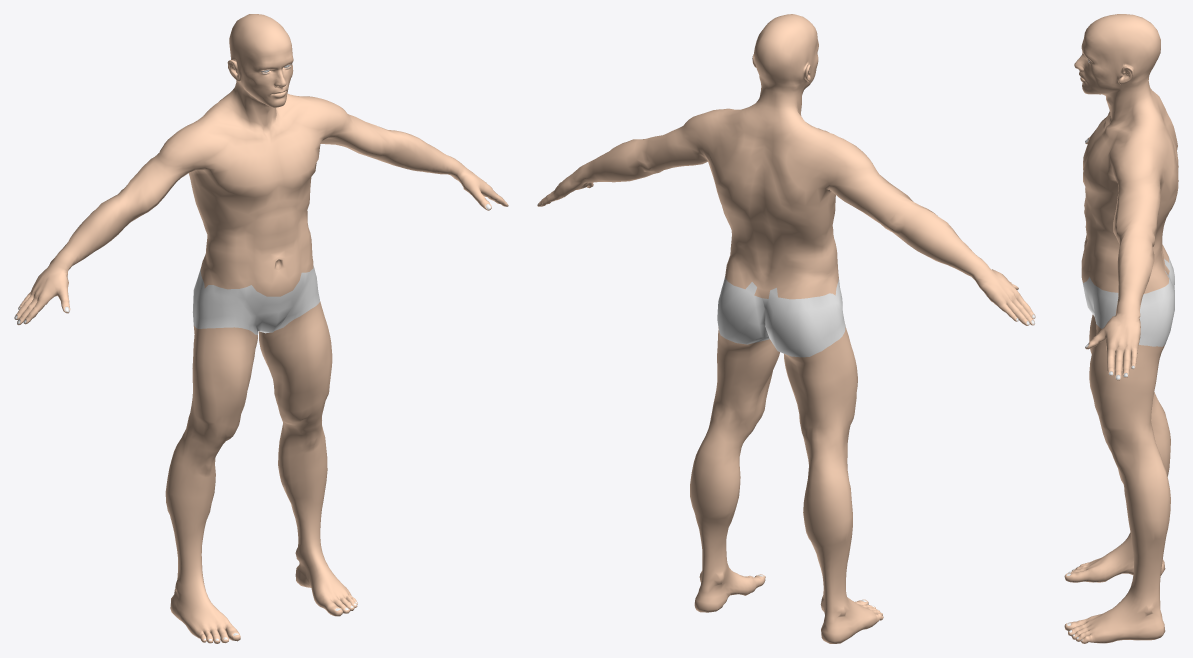
The model's file is Mtest01.glb.
3 renders of one model, left to right at view 1: azimuth 30°, elevation 25°; view 2: azimuth 150°, elevation 25°; view 3: azimuth 270°, elevation 25°, orthographic.
Visible parts, largest first — view 1: m_ca01; view 2: m_ca01; view 3: m_ca01.
Boxes of the visible parts, left/top/right/bottom form: m_ca01: left=14, top=14, right=508, bottom=643; m_ca01: left=537, top=14, right=1035, bottom=643; m_ca01: left=1064, top=14, right=1178, bottom=643.
Bounding box in the file's own units: 1.57 × 1.81 × 0.3178.
10 materials, 1 textured.
